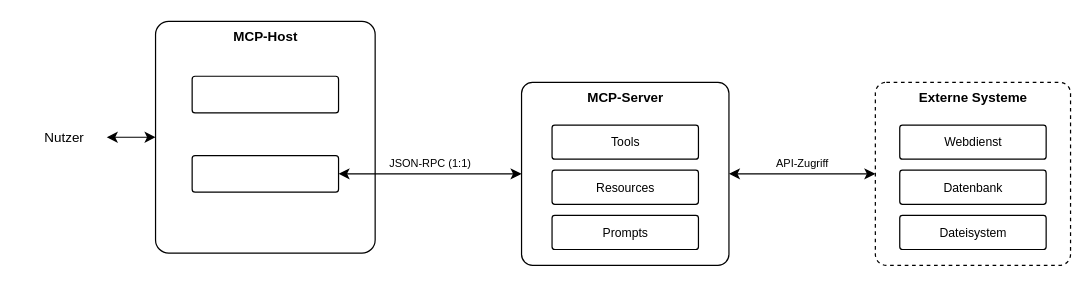
Image size: 1092x287. Some labels were removed from this diagram. The shapes that lost their labels are listed below. From the top down, each one's centre as x and y in pixels, then its label:
At [265,94]: "Sprachmodell".
At [265,173]: "MCP-Client".
